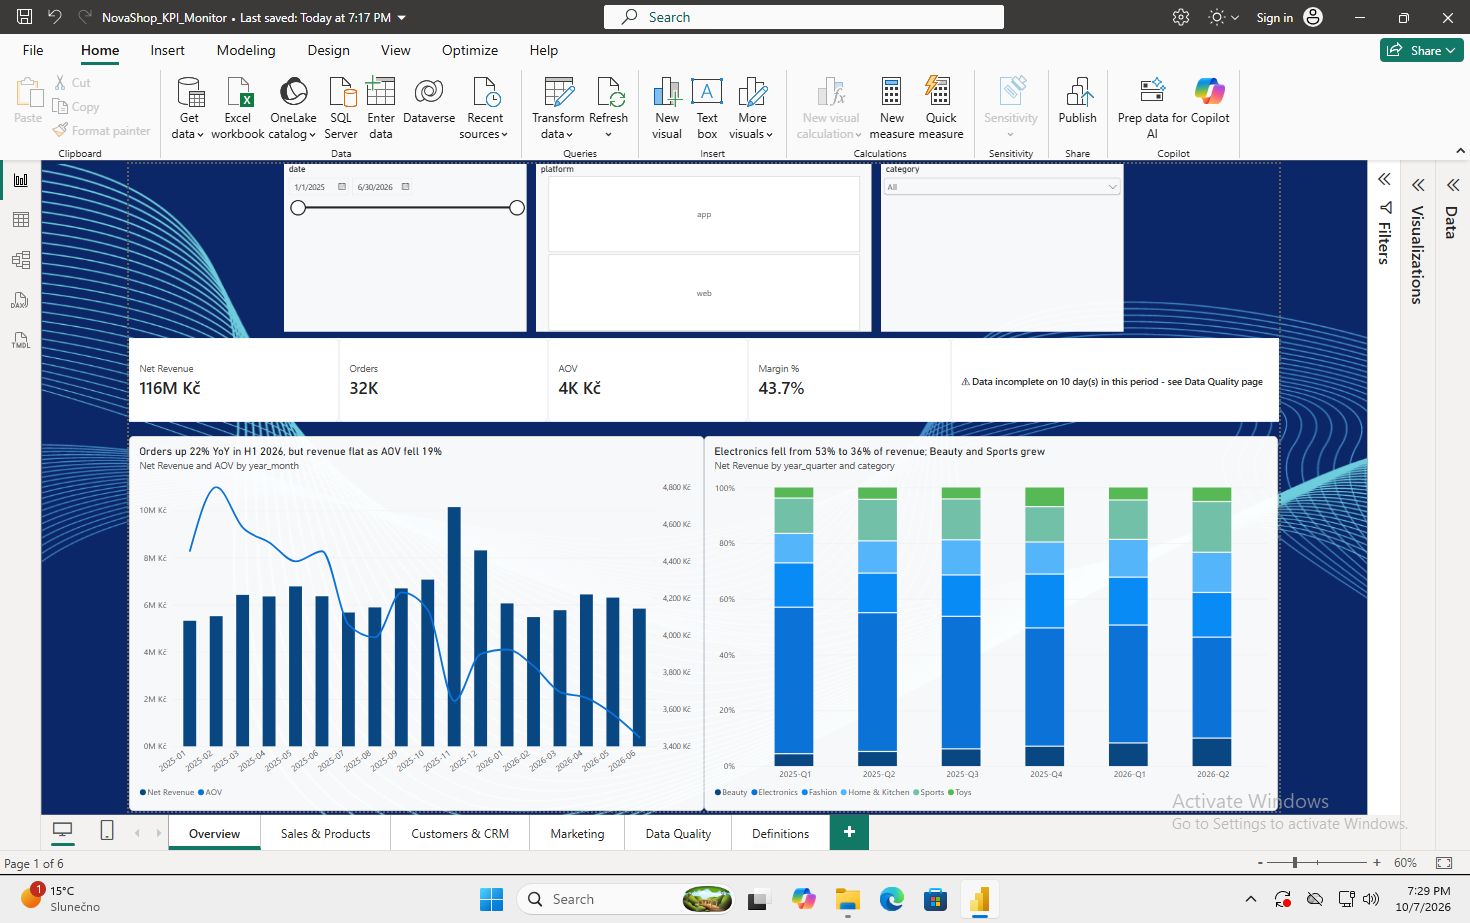

This screenshot's page, from the dashboard's own definition file:
{"tool":"powerbi","page":{"name":"Overview","canvas":[1920,1080],"ordinal":0},"visuals":[{"type":"slicer","fields":{"Values":["dim_date.date"]},"box":[0,0,405,280],"z":0},{"type":"slicer","fields":{"Values":["fct_order_items.platform"]},"box":[420,0,560,280],"z":1000},{"type":"slicer","fields":{"Values":["dim_product.category"]},"box":[995,0,405,280],"z":2000},{"type":"cardVisual","fields":{"Data":["_Measures.Net Revenue"]},"box":[0,290,280,140],"z":3000},{"type":"cardVisual","fields":{"Data":["_Measures.Orders"]},"box":[280,290,280,140],"z":4000},{"type":"cardVisual","fields":{"Data":["_Measures.AOV"]},"box":[560,290,280,140],"z":5000},{"type":"cardVisual","fields":{"Data":["_Measures.Margin %"]},"box":[840,290,280,140],"z":6000},{"type":"cardVisual","fields":{"Data":["_Measures.Data Warning"]},"box":[1120,290,280,140],"z":7000},{"type":"lineClusteredColumnComboChart","title":"Orders up 22% YoY in H1 2026, but revenue flat as AOV fell 19%","fields":{"Category":["dim_date.year_month"],"Y":["_Measures.Net Revenue"],"Y2":["_Measures.AOV"]},"box":[0,453.3,700,563.3],"z":8000},{"type":"hundredPercentStackedColumnChart","title":"Electronics fell from 53% to 36% of revenue; Beauty and Sports grew","fields":{"Category":["dim_date.year_quarter"],"Series":["dim_product.category"],"Y":["_Measures.Net Revenue"]},"box":[715,453.3,685,563.3],"z":9000}]}

Visuals, with their boxes on the page's 1920x1080 design canvas (x1, y1, x2, y2). These are canvas units, not pixel positions in the 1470x923 screenshot, which may show the page scaled, cropped or inside an application window:
slicer - dim_date.date: <box>0,0,405,280</box>
slicer - fct_order_items.platform: <box>420,0,980,280</box>
slicer - dim_product.category: <box>995,0,1400,280</box>
cardVisual - _Measures.Net Revenue: <box>0,290,280,430</box>
cardVisual - _Measures.Orders: <box>280,290,560,430</box>
cardVisual - _Measures.AOV: <box>560,290,840,430</box>
cardVisual - _Measures.Margin %: <box>840,290,1120,430</box>
cardVisual - _Measures.Data Warning: <box>1120,290,1400,430</box>
"Orders up 22% YoY in H1 2026, but revenue flat as AOV fell 19%" lineClusteredColumnComboChart: <box>0,453,700,1017</box>
"Electronics fell from 53% to 36% of revenue; Beauty and Sports grew" hundredPercentStackedColumnChart: <box>715,453,1400,1017</box>
